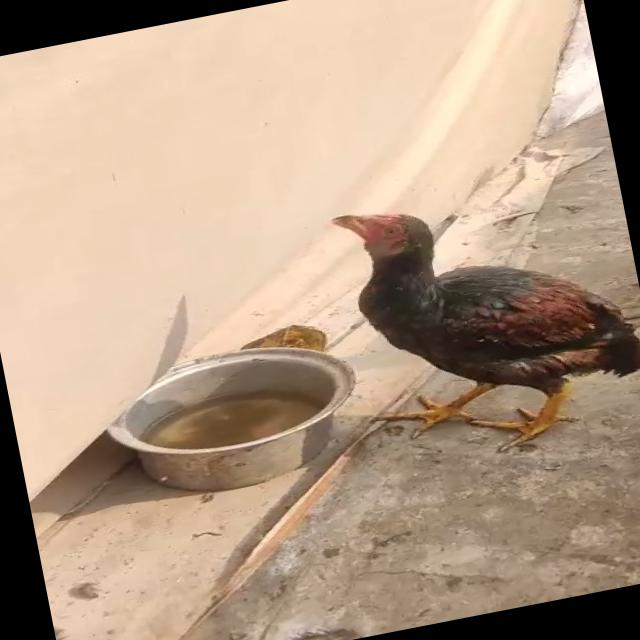drinking: (209, 159, 640, 497)
